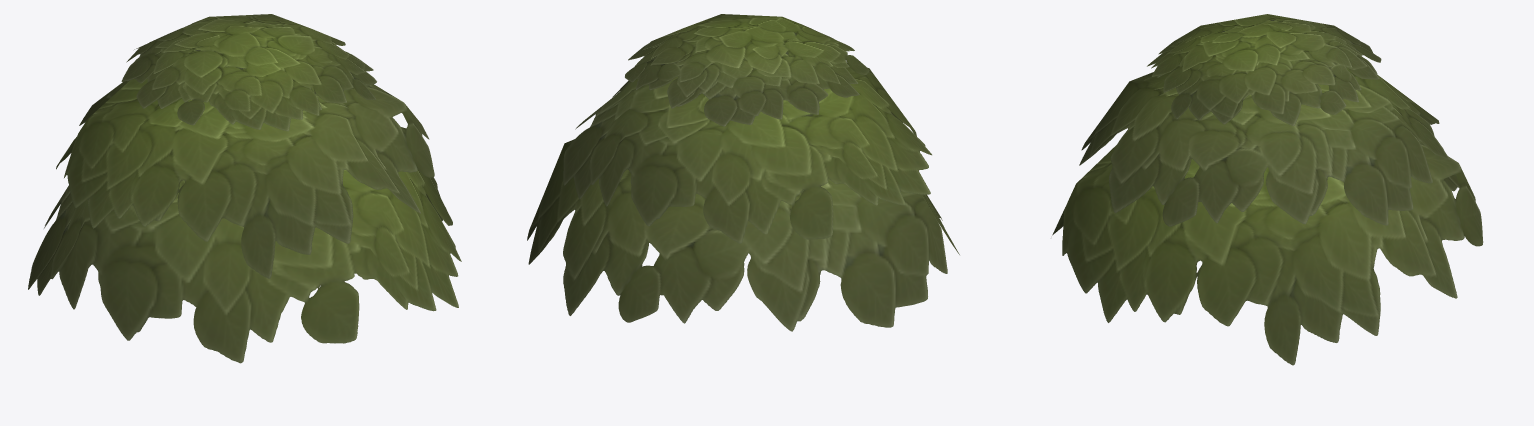
File: bush.glb
3 views of the same model, side by side, from view 1: azimuth 30°, elevation 25°; view 2: azimuth 150°, elevation 25°; view 3: azimuth 270°, elevation 25° (orthographic). The views are drawn at different scales.
Visible parts, largest first — view 1: bush; view 2: bush; view 3: bush.
Boxes of the visible parts, bbox=[...] form: bush: bbox=[28, 14, 461, 363]; bush: bbox=[527, 14, 959, 331]; bush: bbox=[1052, 14, 1483, 365].
Bounding box in the file's own units: 2.05 × 1.22 × 2.05.
1 material, 1 textured.
